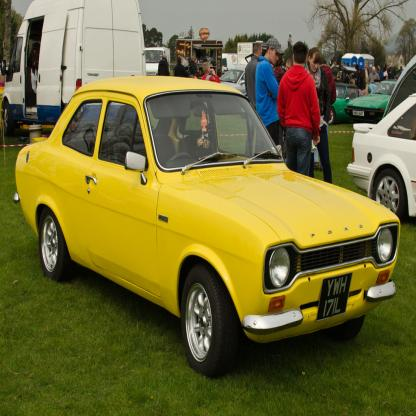Car: (15, 74, 401, 378), (199, 52, 416, 227)
